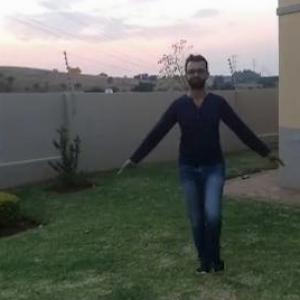land: (144, 65, 260, 265)
